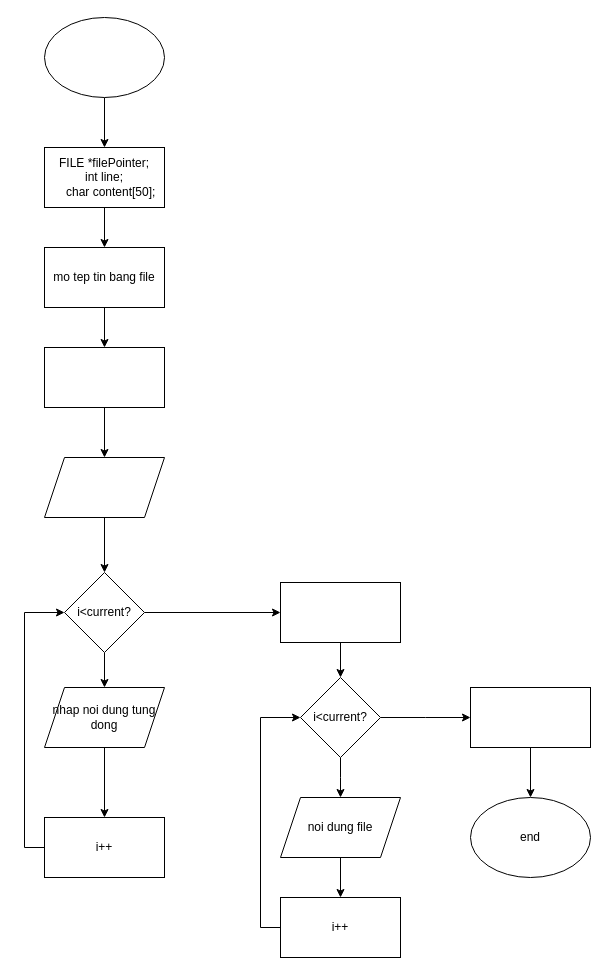
The diagram is 608 pixels wide and 975 high, and some of its shapes have lost their labels. The centre of each missing label's shape, as x and y in pixels:
"current" belongs at point (104, 487).
"fclose(filePointer)" belongs at point (530, 717).
"kiem tra tep tin co mo khong" belongs at point (104, 377).
"mo file de doc kiem tra file mo duoc khong" belongs at point (340, 612).
"start" belongs at point (104, 57).
